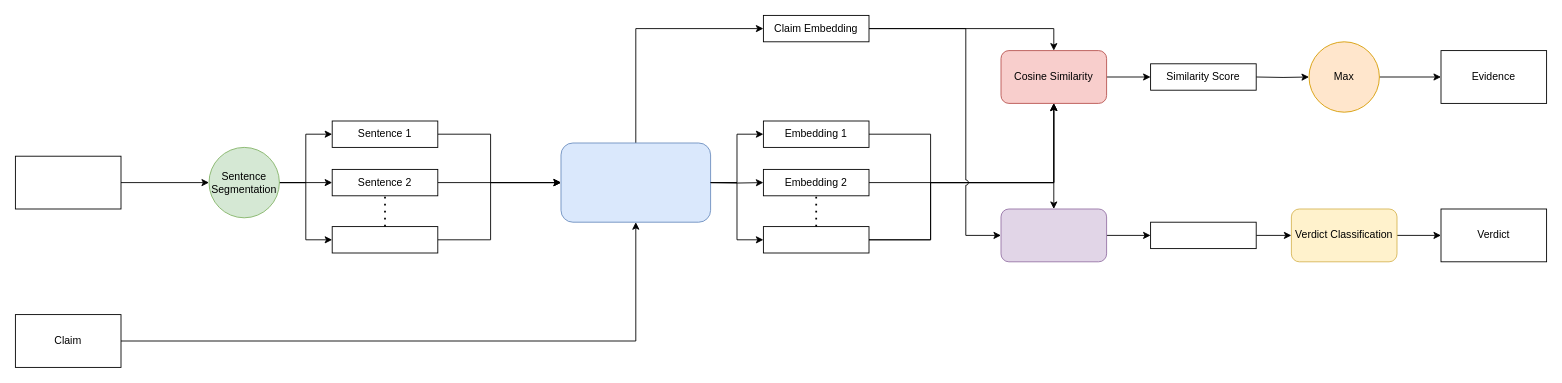
The diagram is 1562 pixels wide and 383 high, and some of its shapes have lost their labels. Here are the shapes that lost their labels. From the top down, the box of each, then its label:
(15, 155, 121, 209): Context
(560, 142, 711, 222): Sentence Embedding (Aka bkai-foundation-models/vietnamese-bi-encoder)
(331, 226, 438, 253): Sentence n
(763, 226, 869, 253): Embedding n
(1000, 208, 1107, 262): Multi-head cross attention
(1150, 221, 1256, 249): Attention Value
